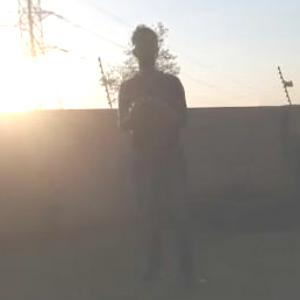follow: (117, 17, 210, 291)
